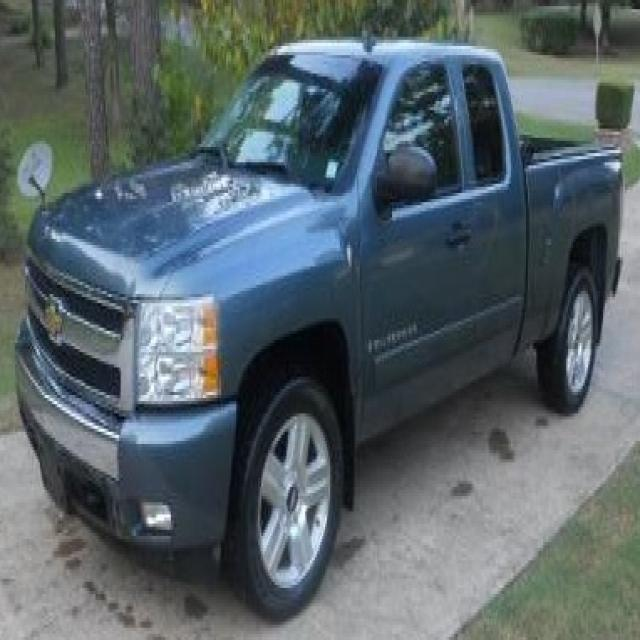CMT: (13, 41, 617, 624)
